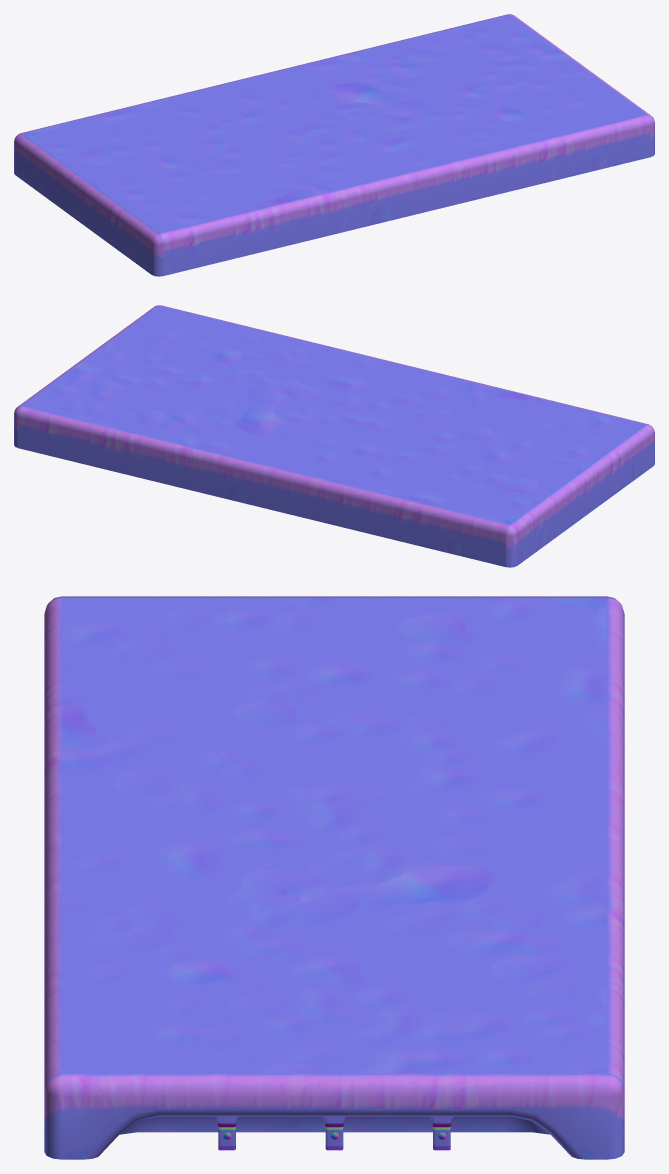
File: sm_curb_02.fbx
3 renders of one model, top to bottom at view 1: azimuth 30°, elevation 25°; view 2: azimuth 150°, elevation 25°; view 3: azimuth 270°, elevation 25°, orthographic. The views are drawn at different scales.
Visible parts, largest first — view 1: sm_curb_02; view 2: sm_curb_02; view 3: sm_curb_02.
Part boxes in pixels (x1=…): sm_curb_02: x1=14, y1=14, x2=654, y2=276; sm_curb_02: x1=14, y1=305, x2=654, y2=567; sm_curb_02: x1=44, y1=596, x2=624, y2=1159.
Bounding box in the file's own units: 200 × 15 × 100.
Materials: 1 (1 with a texture image).
